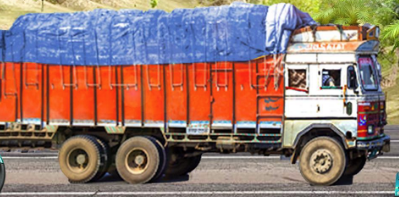truck: (1, 2, 391, 188)
